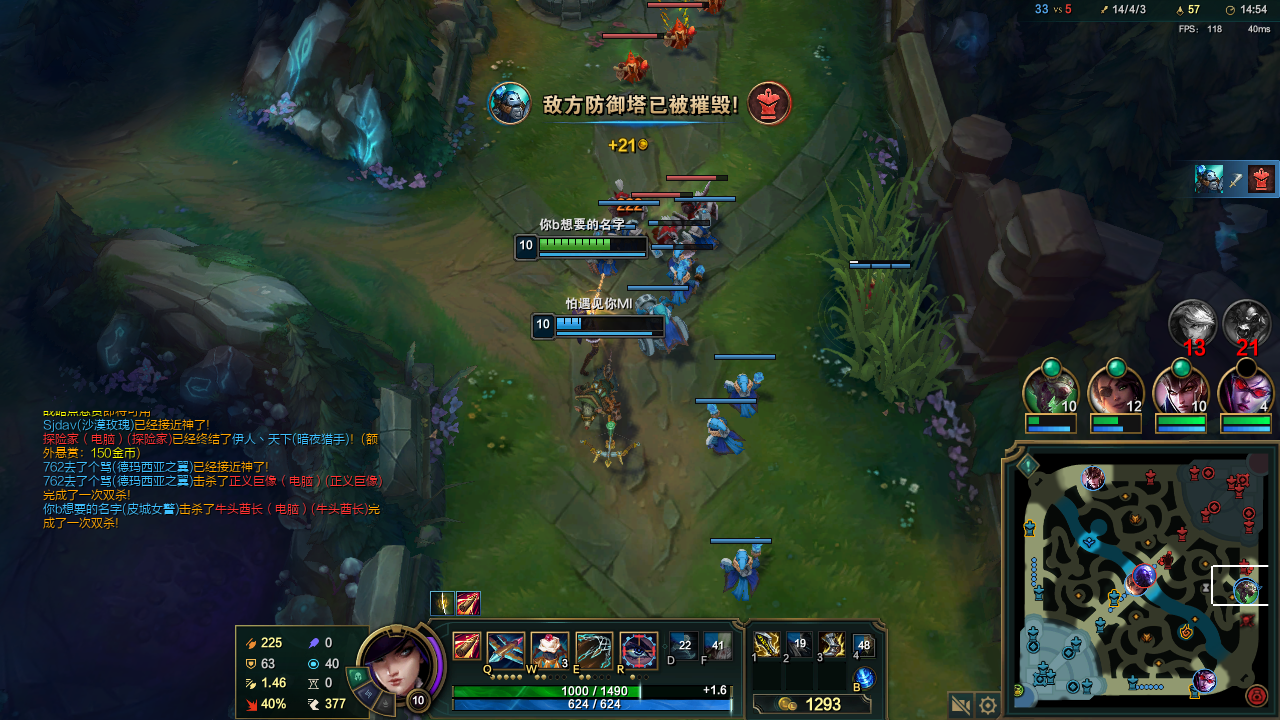DFXB: (642, 213, 676, 244), (615, 53, 647, 82), (662, 19, 694, 44), (679, 190, 703, 208), (701, 1, 721, 11)
WFXB: (642, 294, 685, 353), (728, 547, 768, 594), (705, 417, 743, 459), (660, 267, 701, 304), (687, 211, 723, 248), (730, 370, 757, 414), (667, 235, 696, 265), (596, 251, 621, 276)
